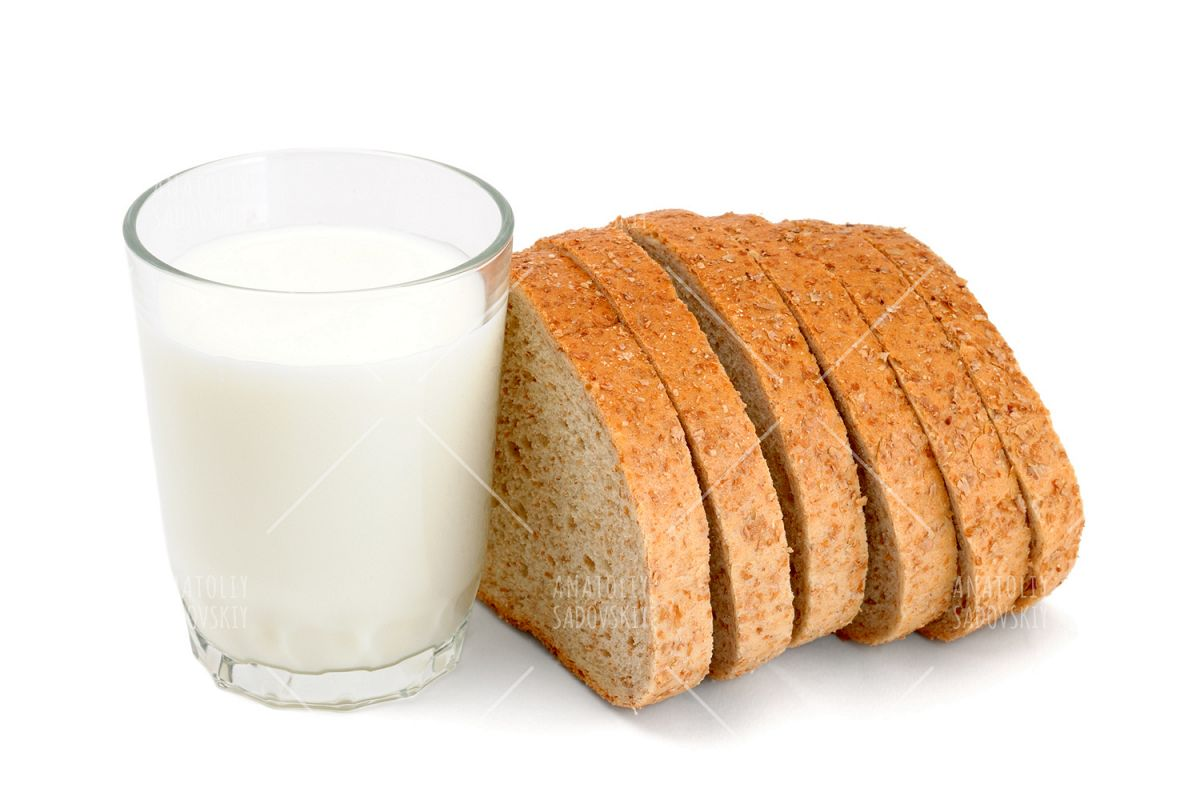glass of milk: (110, 120, 510, 718)
slice of bread: (495, 201, 1081, 718)
